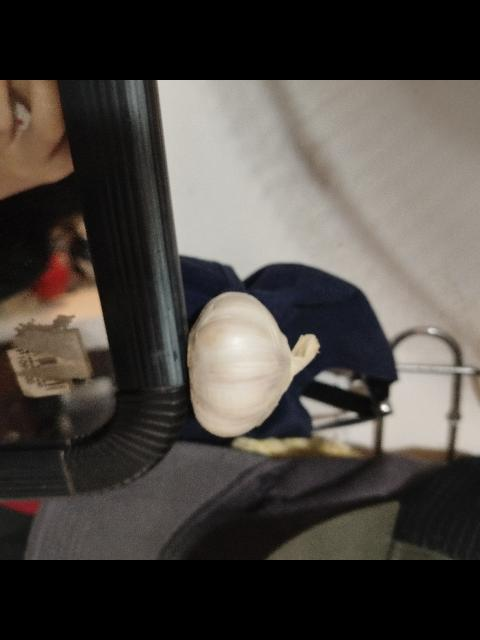garlic: (186, 290, 320, 438)
